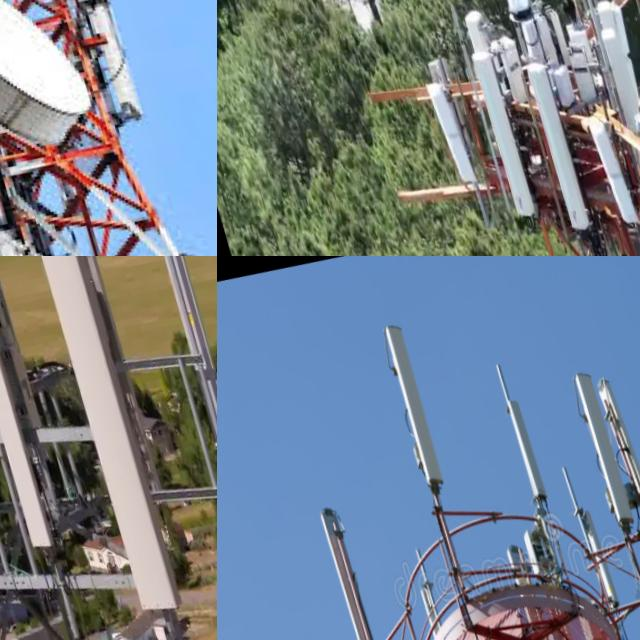GSM Antenna: (22, 256, 191, 611), (23, 256, 145, 438), (0, 256, 67, 566), (141, 256, 217, 466), (517, 50, 595, 239), (460, 36, 538, 216), (375, 309, 451, 492), (567, 353, 640, 532), (316, 502, 385, 640), (82, 0, 156, 118), (422, 70, 482, 194), (582, 104, 640, 221), (494, 378, 549, 498), (586, 0, 640, 113), (620, 105, 640, 224)
Microwave Antenna: (0, 0, 124, 207)
